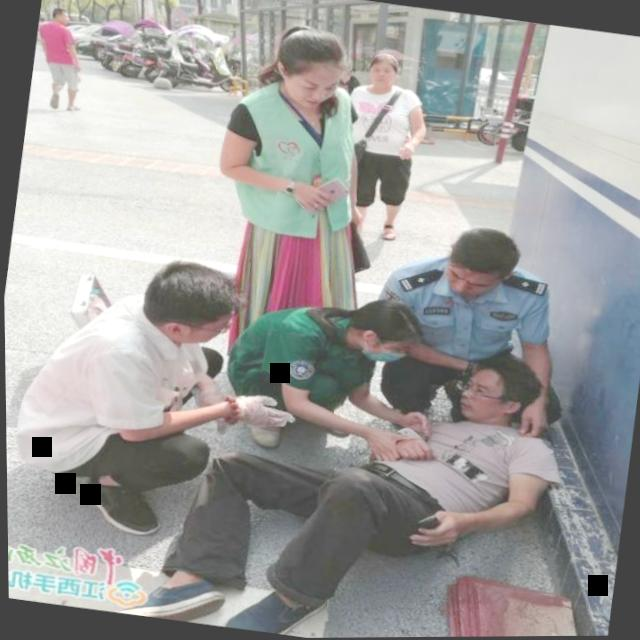Fall-Detected: (101, 298, 573, 639)
